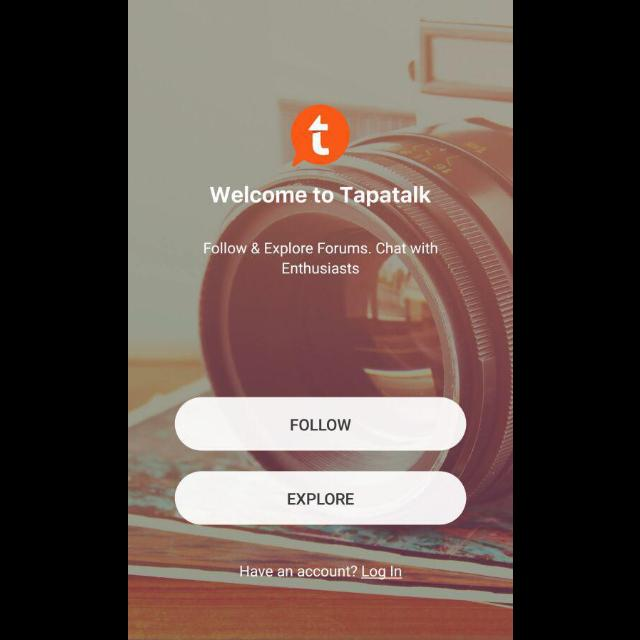backgroundimage: (128, 1, 512, 640)
image: (290, 105, 350, 167)
text: (203, 242, 437, 274), (209, 186, 431, 208), (240, 566, 402, 580)
textbutton: (174, 471, 466, 525), (174, 397, 466, 451)
